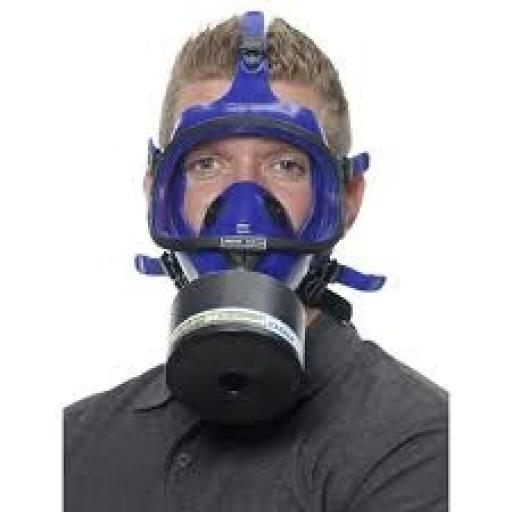mask: (132, 101, 375, 437)
